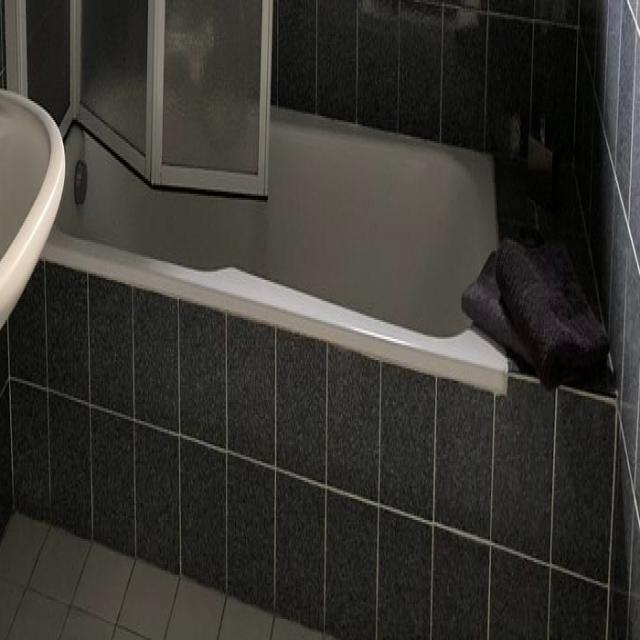bath: (2, 0, 508, 398)
wastafel: (0, 86, 65, 334)
